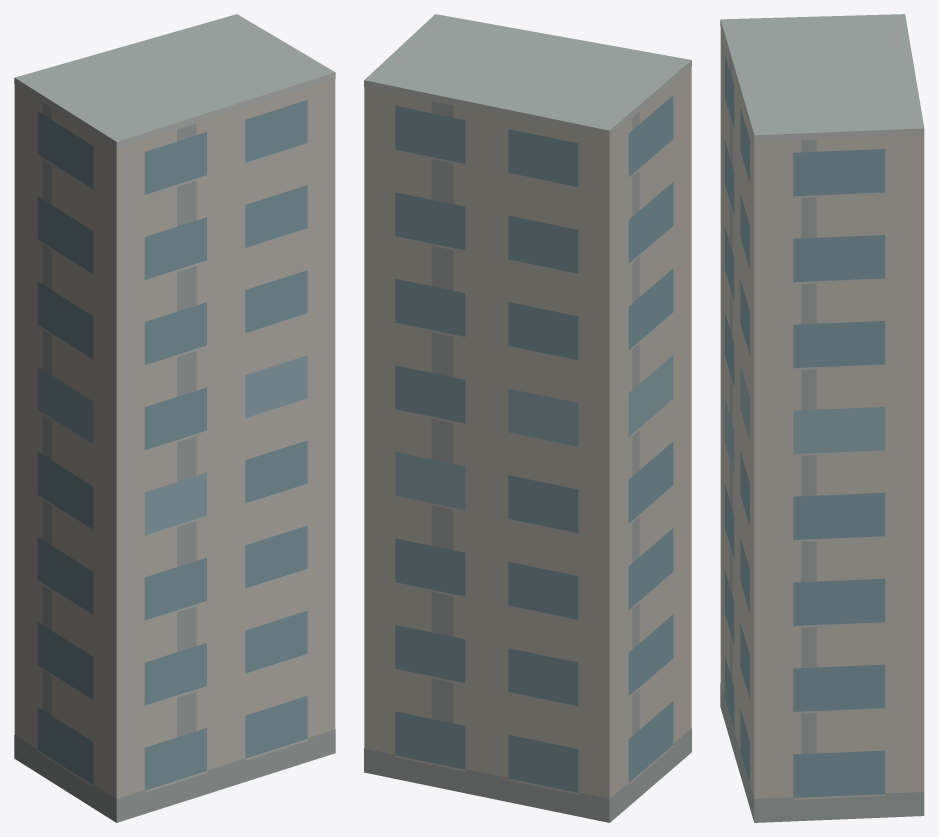
The model's file is survey-upis-32868644.glb.
3 views of the same model, side by side, from view 1: azimuth 30°, elevation 25°; view 2: azimuth 150°, elevation 25°; view 3: azimuth 270°, elevation 25° (orthographic).
Visible parts, largest first — view 1: survey-upis-32868644.tmp; view 2: survey-upis-32868644.tmp; view 3: survey-upis-32868644.tmp.
Boxes of the visible parts, x1,y1,x2,y2 form: survey-upis-32868644.tmp: (14, 14, 335, 822); survey-upis-32868644.tmp: (364, 14, 691, 822); survey-upis-32868644.tmp: (720, 14, 924, 822).
Bounding box in the file's own units: 9.24 × 24.4 × 6.57.
